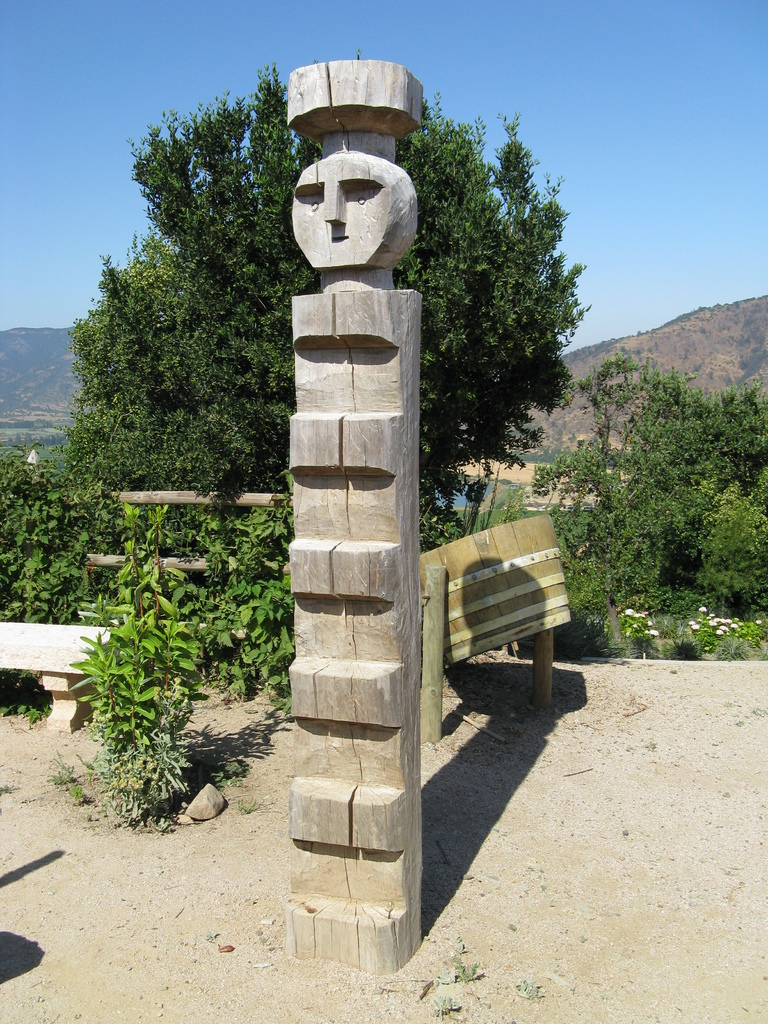Tree: (0, 59, 768, 603)
